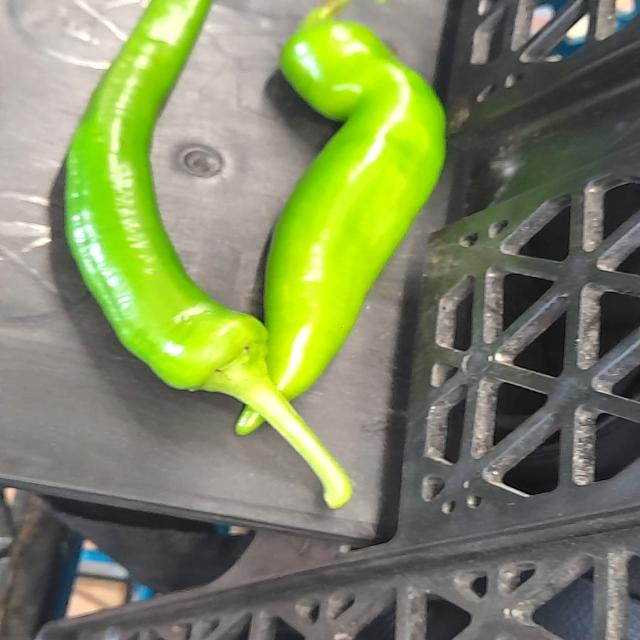green pepper: (57, 0, 351, 512), (229, 6, 457, 437)
